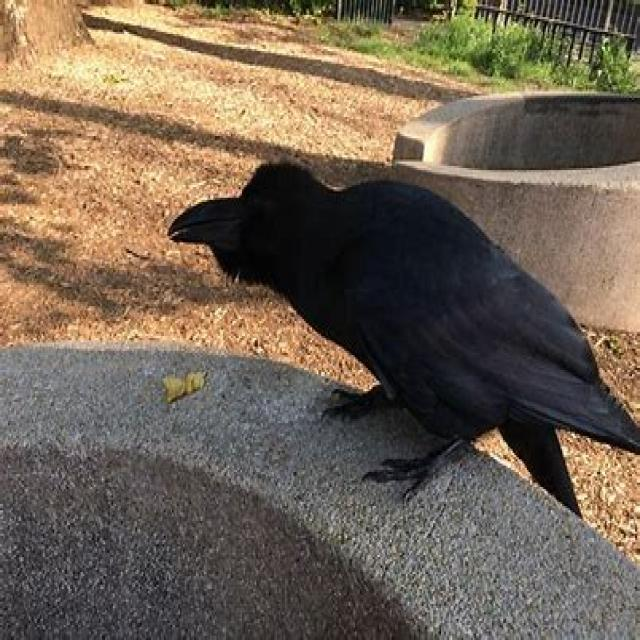crow: (169, 156, 637, 512)
